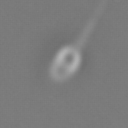normal: (76, 1, 114, 47)
